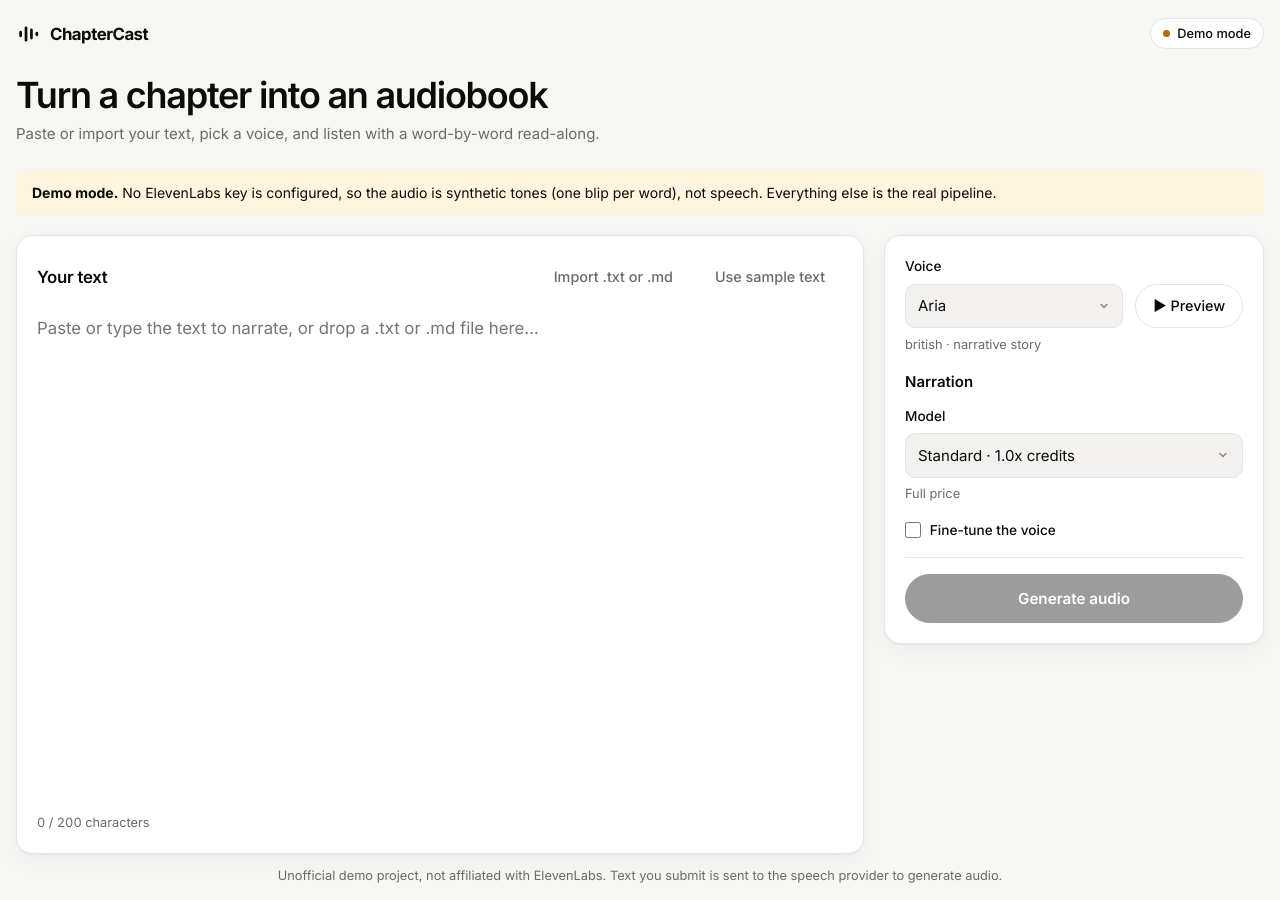
Test: App › runs the whole flow: submit, progress, playable audio, start over
Step 1. Type "A short chapter." into the text box named "Chapter text" → (440, 556), box [37, 314, 843, 797]
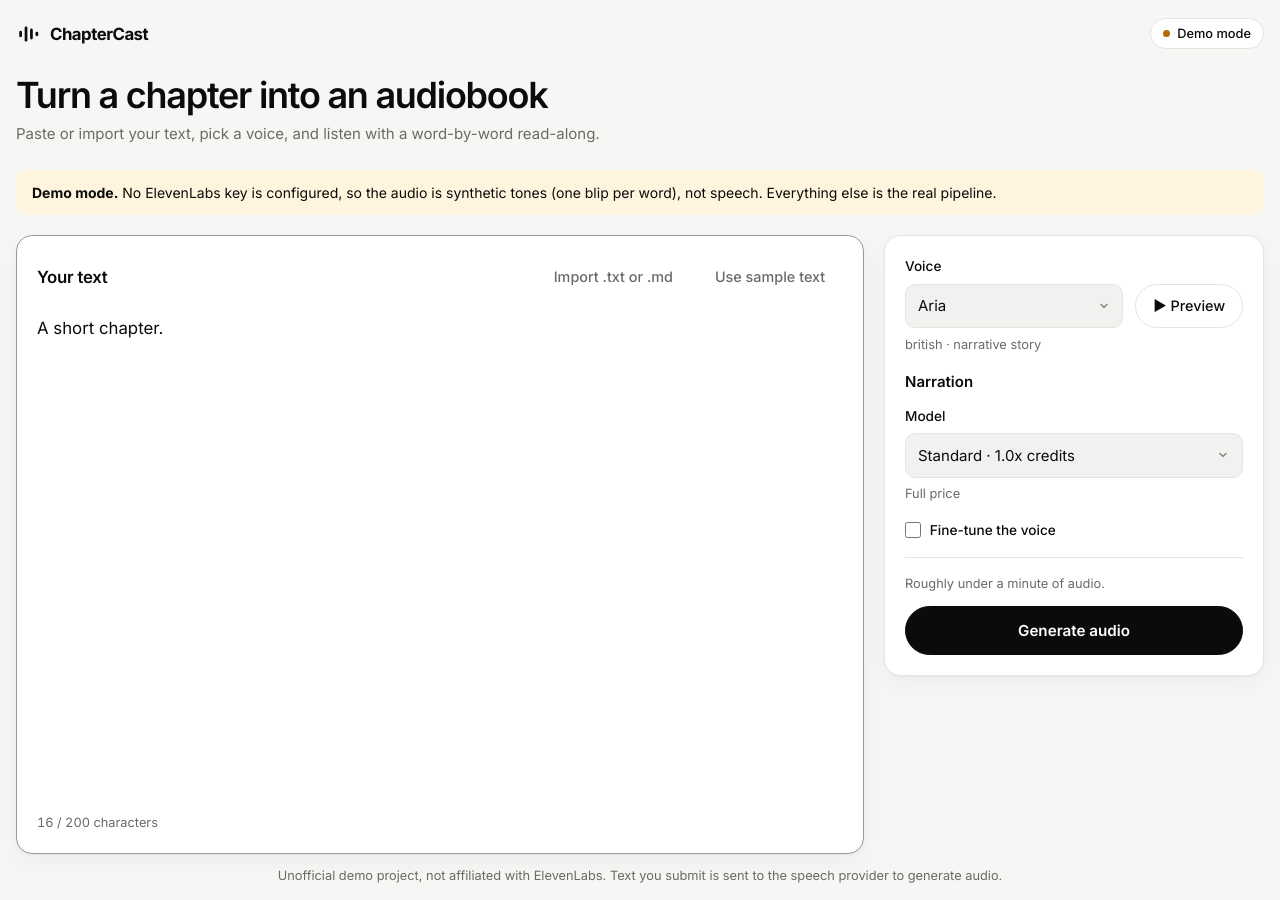
Step 2. Select "Orion" in the dropdown labelled "Voice" → (1014, 306), box [905, 284, 1124, 328]
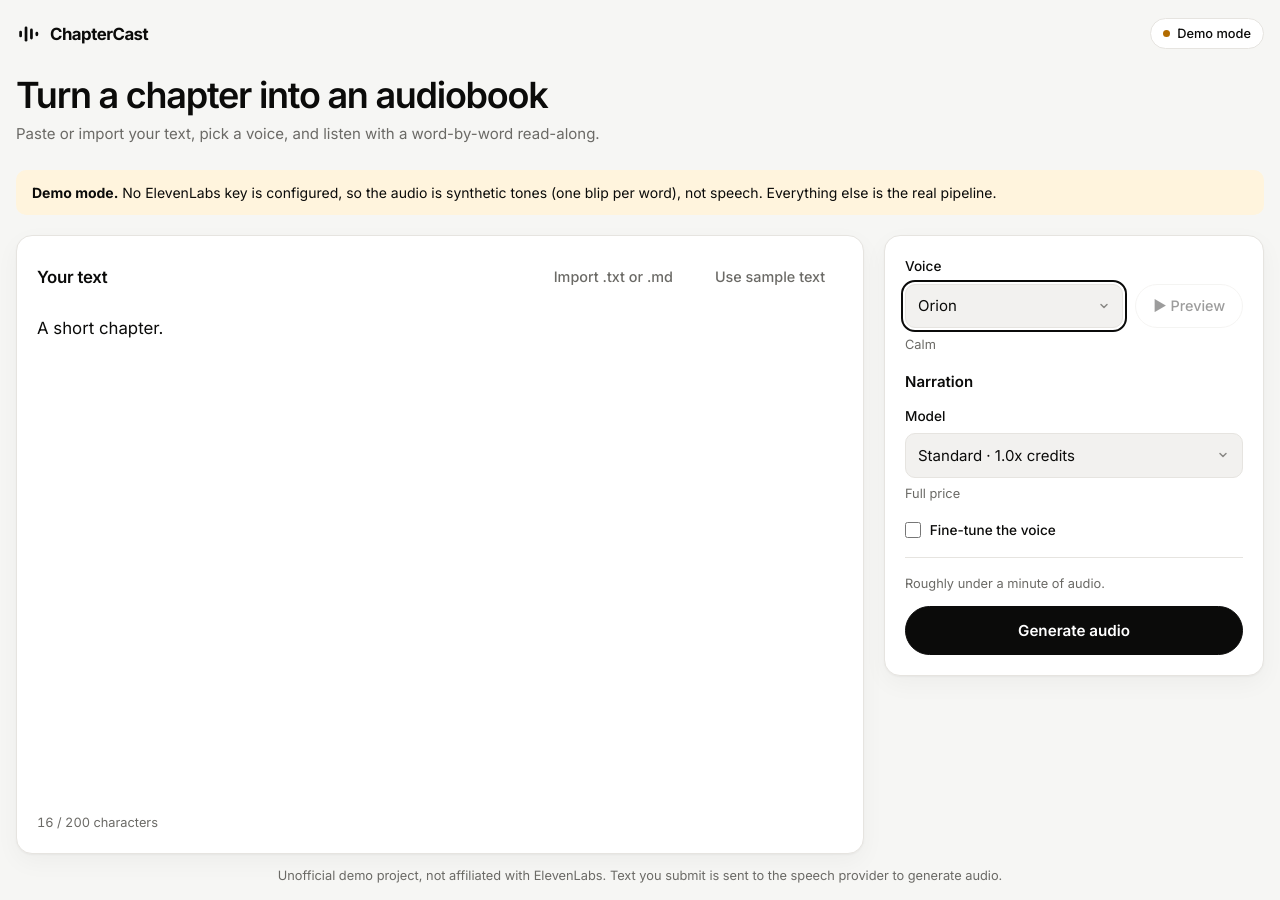
Step 3. Click the button "Generate audio" → (1074, 630), box [905, 606, 1243, 655]
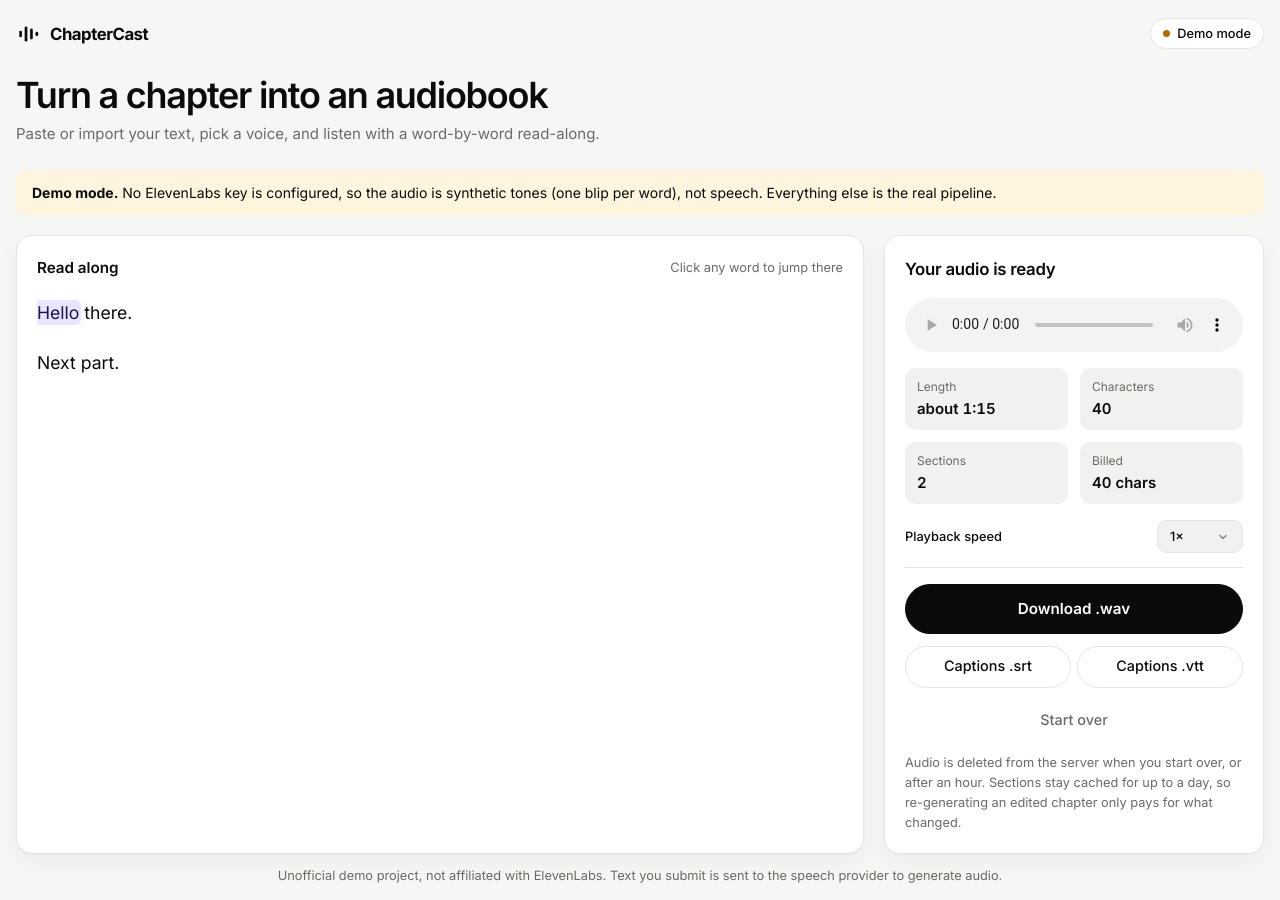
Expected: the heading "Your audio is ready" is shown, [905, 259, 1056, 279]
Expected: the text "about 1:15" is shown, [917, 399, 996, 418]
Step 4. Click the button "Start over" → (1074, 721), box [905, 700, 1243, 742]
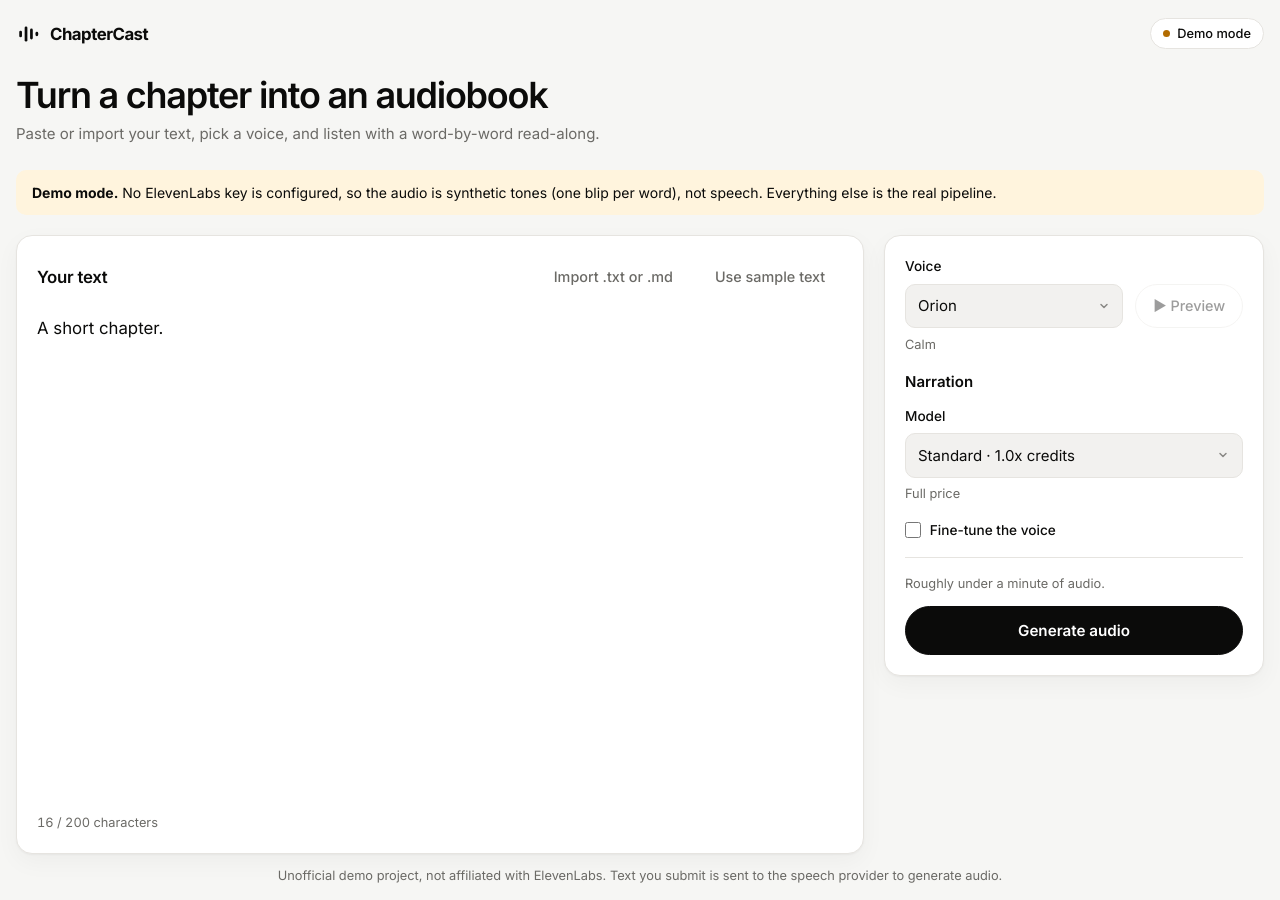
Expected: the text box named "Chapter text" is shown, [37, 314, 843, 797]
